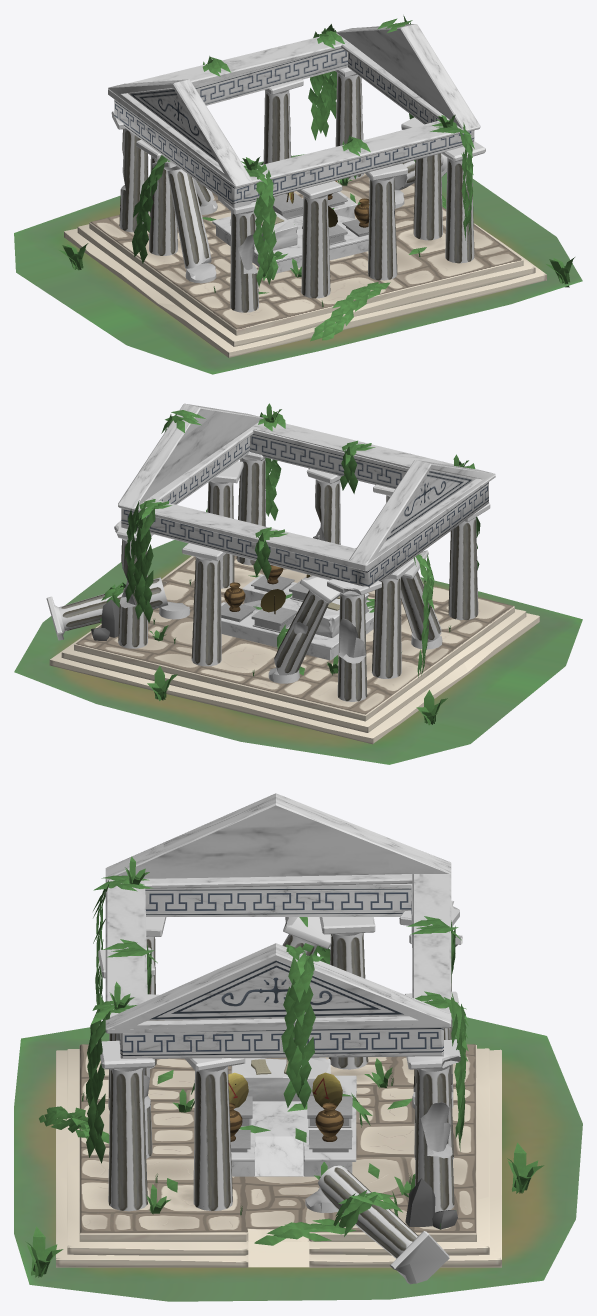
Rendered from greek_temple.glb.
3 renders of one model, top to bottom at view 1: azimuth 30°, elevation 25°; view 2: azimuth 150°, elevation 25°; view 3: azimuth 270°, elevation 25°, orthographic. The views are drawn at different scales.
Visible parts, largest first — view 1: Building_Material #108_0, Building_Material #109_0; view 2: Building_Material #108_0, Building_Material #109_0; view 3: Building_Material #108_0, Building_Material #109_0.
Boxes of the visible parts, x1,y1,x2,y2 form: Building_Material #108_0: (14, 15, 582, 374); Building_Material #109_0: (89, 173, 523, 335); Building_Material #108_0: (14, 403, 582, 764); Building_Material #109_0: (74, 555, 514, 721); Building_Material #108_0: (14, 793, 582, 1301); Building_Material #109_0: (79, 1044, 476, 1241).
Bounding box in the file's own units: 1276 × 677 × 1053.
2 materials, 2 textured.
